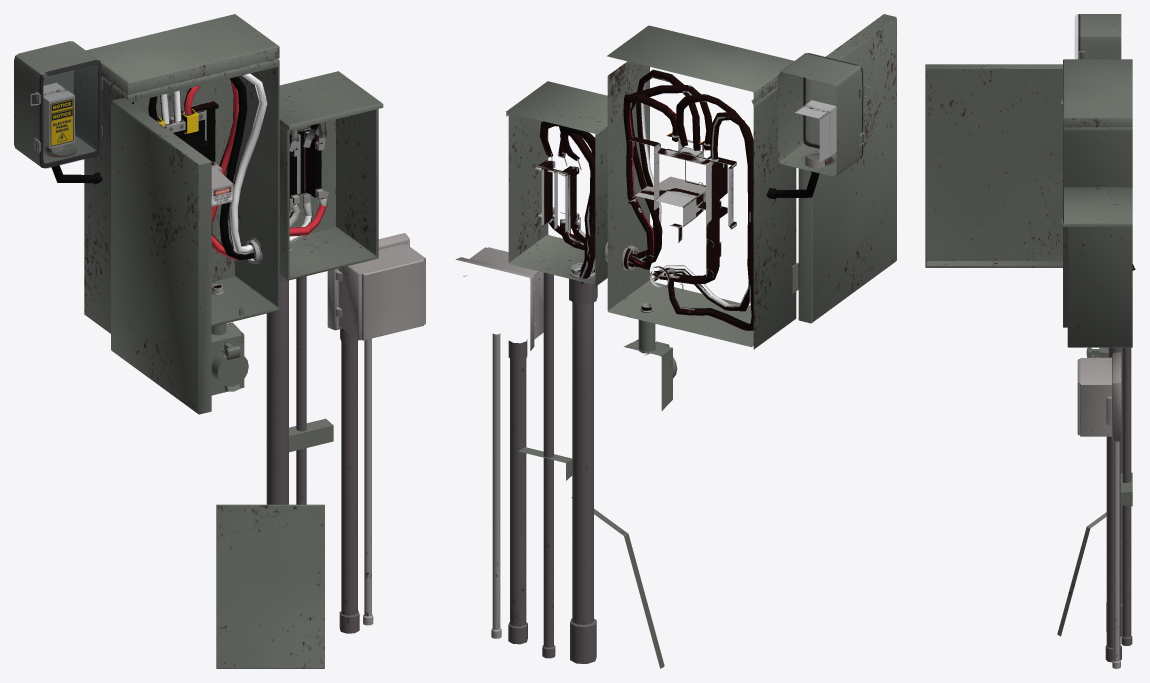
File: electrical_breaker_panel_box__lp_model.glb
The picture shows the model from 3 angles, left to right: view 1: azimuth 30°, elevation 25°; view 2: azimuth 150°, elevation 25°; view 3: azimuth 270°, elevation 25°; orthographic projection. The views are drawn at different scales.
Visible parts, largest first — view 1: UnicueTexture_tile_0, UnicueTexture_custom_0, UnicueTexture_Glass_0; view 2: UnicueTexture_tile_0, UnicueTexture_custom_0; view 3: UnicueTexture_tile_0, UnicueTexture_custom_0.
Part boxes in pixels (left/top/right/bottom): UnicueTexture_tile_0: left=14, top=14, right=425, bottom=668; UnicueTexture_custom_0: left=43, top=73, right=423, bottom=452; UnicueTexture_Glass_0: left=41, top=61, right=101, bottom=168; UnicueTexture_tile_0: left=455, top=14, right=896, bottom=668; UnicueTexture_custom_0: left=488, top=69, right=836, bottom=480; UnicueTexture_tile_0: left=925, top=14, right=1132, bottom=668; UnicueTexture_custom_0: left=1061, top=99, right=1135, bottom=506.
Size of the model in its own units: 0.792 by 1.23 by 0.453.
Materials: 3 (3 with a texture image).
